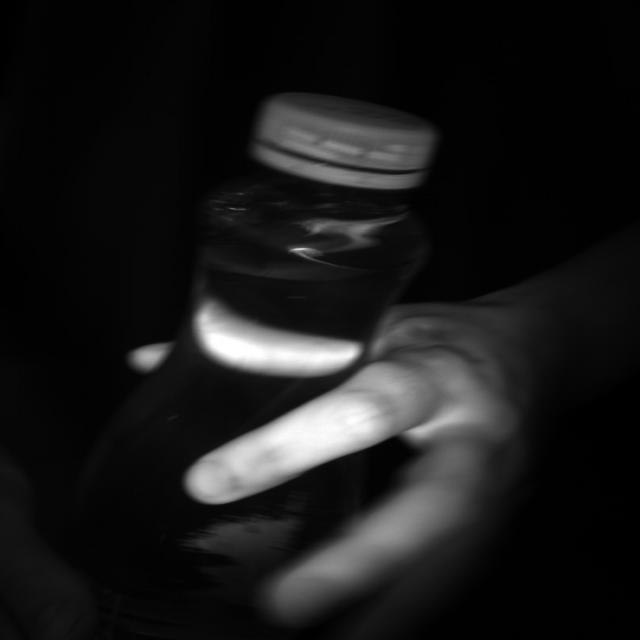Not Good: (245, 92, 440, 192)
